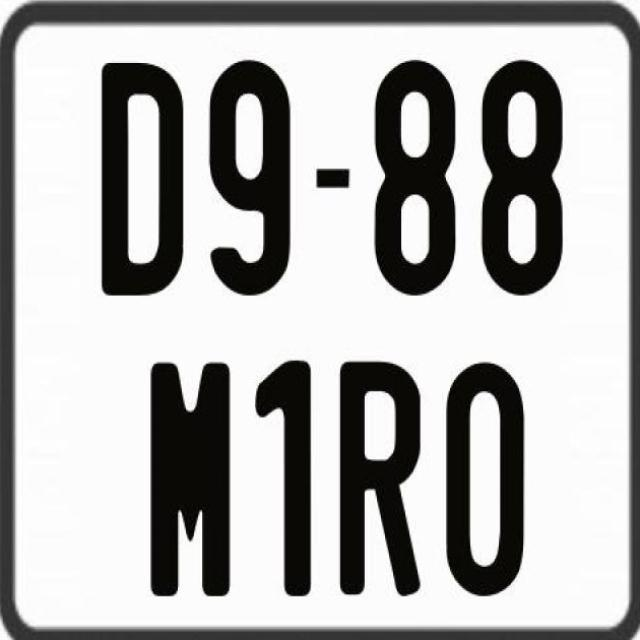license-plate: (3, 6, 635, 640)
